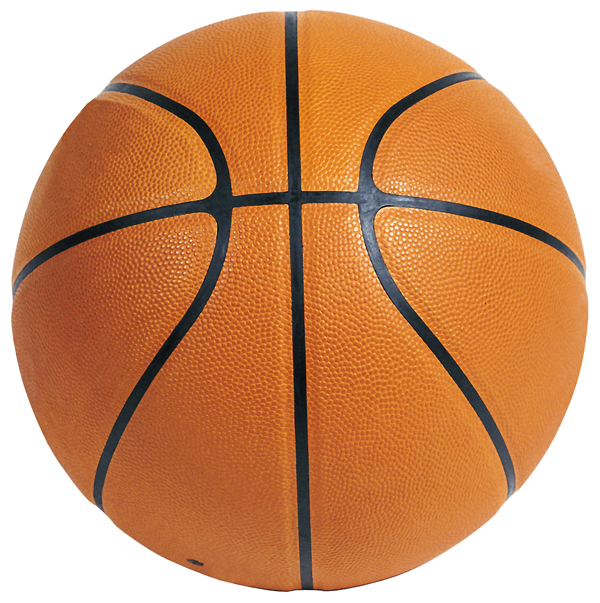basketball: (13, 9, 589, 592)
